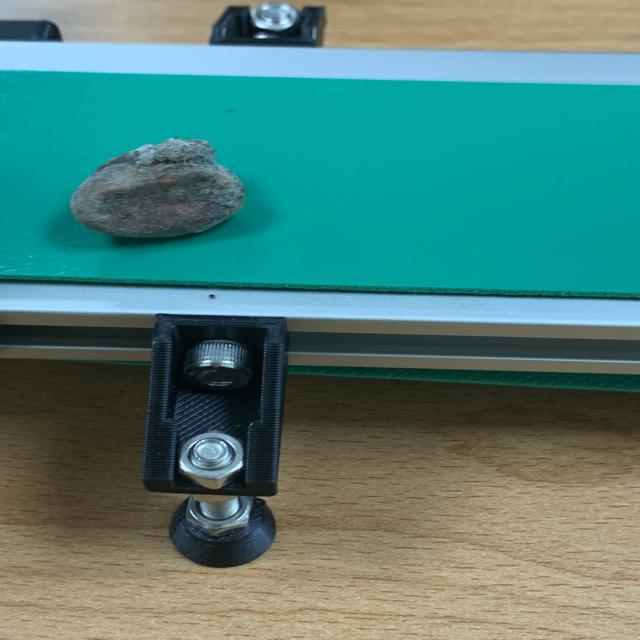Agglomerated_cocoabeans: (11, 122, 288, 266)
